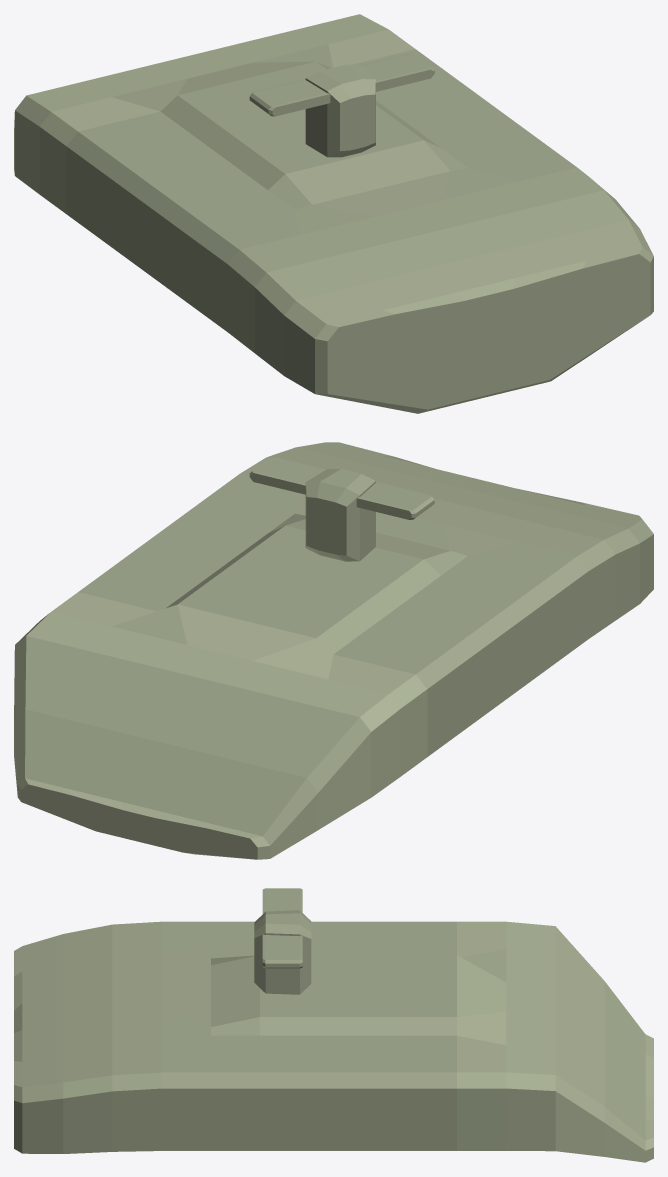
The model's file is hartmann_scout_a.glb.
The picture shows the model from 3 angles, top to bottom: view 1: azimuth 30°, elevation 25°; view 2: azimuth 150°, elevation 25°; view 3: azimuth 270°, elevation 25°; orthographic projection. The views are drawn at different scales.
Parts seen in each view (by area): view 1: hartmann_scout_a; view 2: hartmann_scout_a; view 3: hartmann_scout_a.
Boxes of the visible parts, box(x1,y1,x2,y2) form: hartmann_scout_a: box(14, 14, 653, 413); hartmann_scout_a: box(14, 442, 653, 859); hartmann_scout_a: box(14, 888, 653, 1162).
Bounding box in the file's own units: 2.5 × 1.45 × 4.2.
